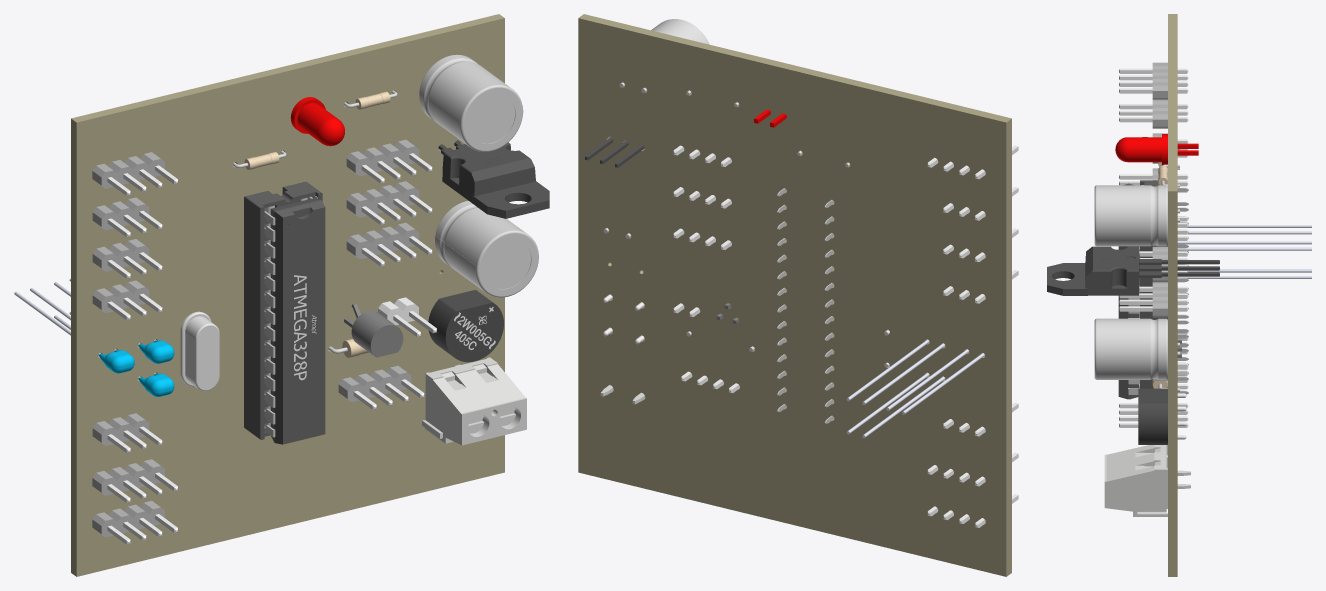
File: ATMEGA328P.glb
The picture shows the model from 3 angles, left to right: view 1: azimuth 30°, elevation 25°; view 2: azimuth 150°, elevation 25°; view 3: azimuth 270°, elevation 25°; orthographic projection. The views are drawn at different scales.
Parts seen in each view (by area): view 1: Board.001, Body1.004, Body1.013, Body1.009, Body1.010, Body2, Body4.001, Body2.004, Body1.005, Body1.021, Body1.024, Body1.020 (+11 smaller); view 2: Board.001, Body2, Body1.009; view 3: Board.001, Body1.010, Body1.009, Body1.013, Body4.001, Body2.004, Body1.018, Body1, Body1.020, Body2, Body1.015, Body1.004 (+12 smaller).
Part boxes in pixels (bbox=[...]): Board.001: bbox=[71, 14, 504, 576]; Body1.004: bbox=[264, 197, 325, 444]; Body1.013: bbox=[422, 357, 526, 445]; Body1.009: bbox=[419, 54, 523, 151]; Body1.010: bbox=[435, 200, 538, 297]; Body2: bbox=[244, 181, 322, 439]; Body4.001: bbox=[442, 142, 549, 218]; Body2.004: bbox=[428, 290, 503, 362]; Body1.005: bbox=[180, 311, 219, 391]; Body1.021: bbox=[346, 181, 432, 225]; Body1.024: bbox=[338, 365, 424, 409]; Body1.020: bbox=[346, 222, 432, 266]; Board.001: bbox=[578, 14, 1011, 576]; Body2: bbox=[777, 188, 834, 423]; Body1.009: bbox=[619, 19, 709, 93]; Board.001: bbox=[1168, 14, 1177, 576]; Body1.010: bbox=[1094, 318, 1179, 379]; Body1.009: bbox=[1094, 185, 1179, 246]; Body1.013: bbox=[1104, 445, 1167, 516]; Body4.001: bbox=[1047, 246, 1139, 295]; Body2.004: bbox=[1138, 388, 1167, 444]; Body1.018: bbox=[1119, 62, 1188, 99]; Body1: bbox=[1115, 134, 1198, 165]; Body1.020: bbox=[1119, 282, 1188, 317]; Body2: bbox=[1140, 180, 1188, 394]; Body1.015: bbox=[1119, 99, 1188, 128]; Body1.004: bbox=[1118, 183, 1139, 399].
Bounding box in the file's own units: 0.0686 × 0.0695 × 0.0433.
